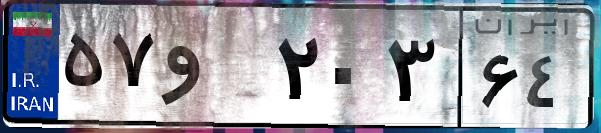0: (330, 28, 385, 110)
2: (270, 28, 330, 110)
3: (385, 28, 445, 110)
4: (525, 38, 570, 115)
5: (57, 26, 110, 100)
6: (475, 38, 525, 113)
7: (110, 28, 158, 98)
و: (158, 20, 270, 120)
